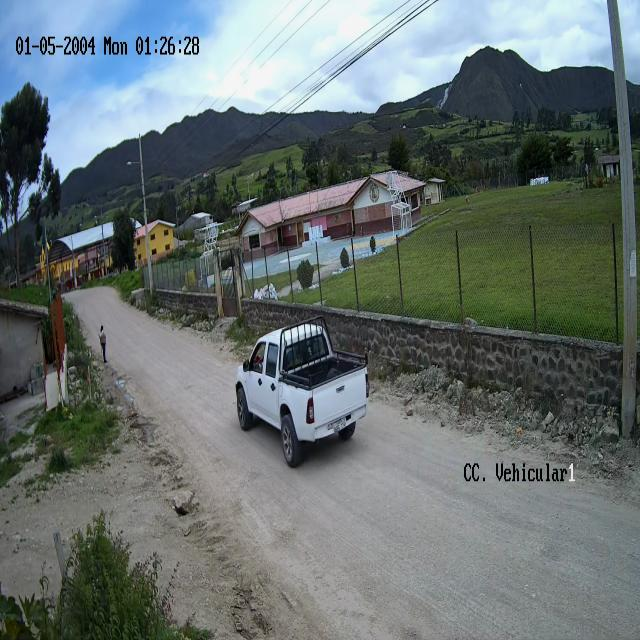CMT: (234, 319, 369, 463)
